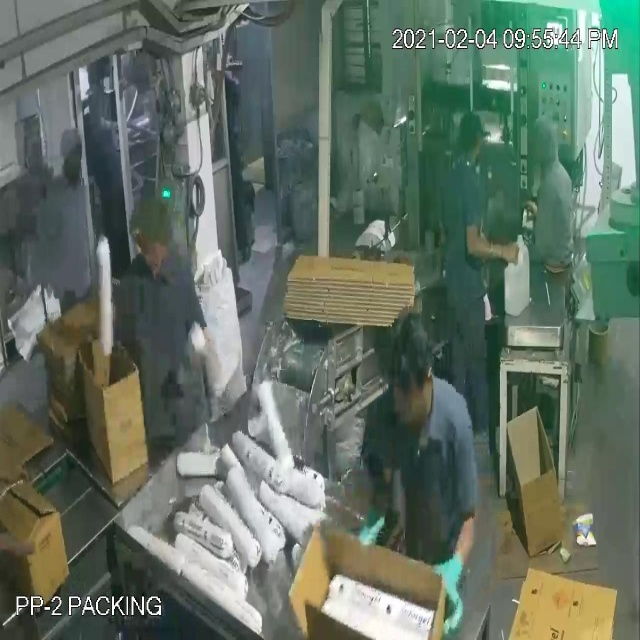Guantes: (425, 545, 475, 637)
Sin_guantes: (463, 215, 538, 285)
